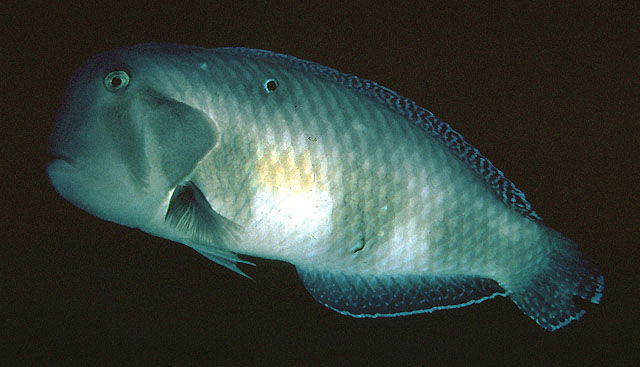fish: (48, 43, 604, 332)
